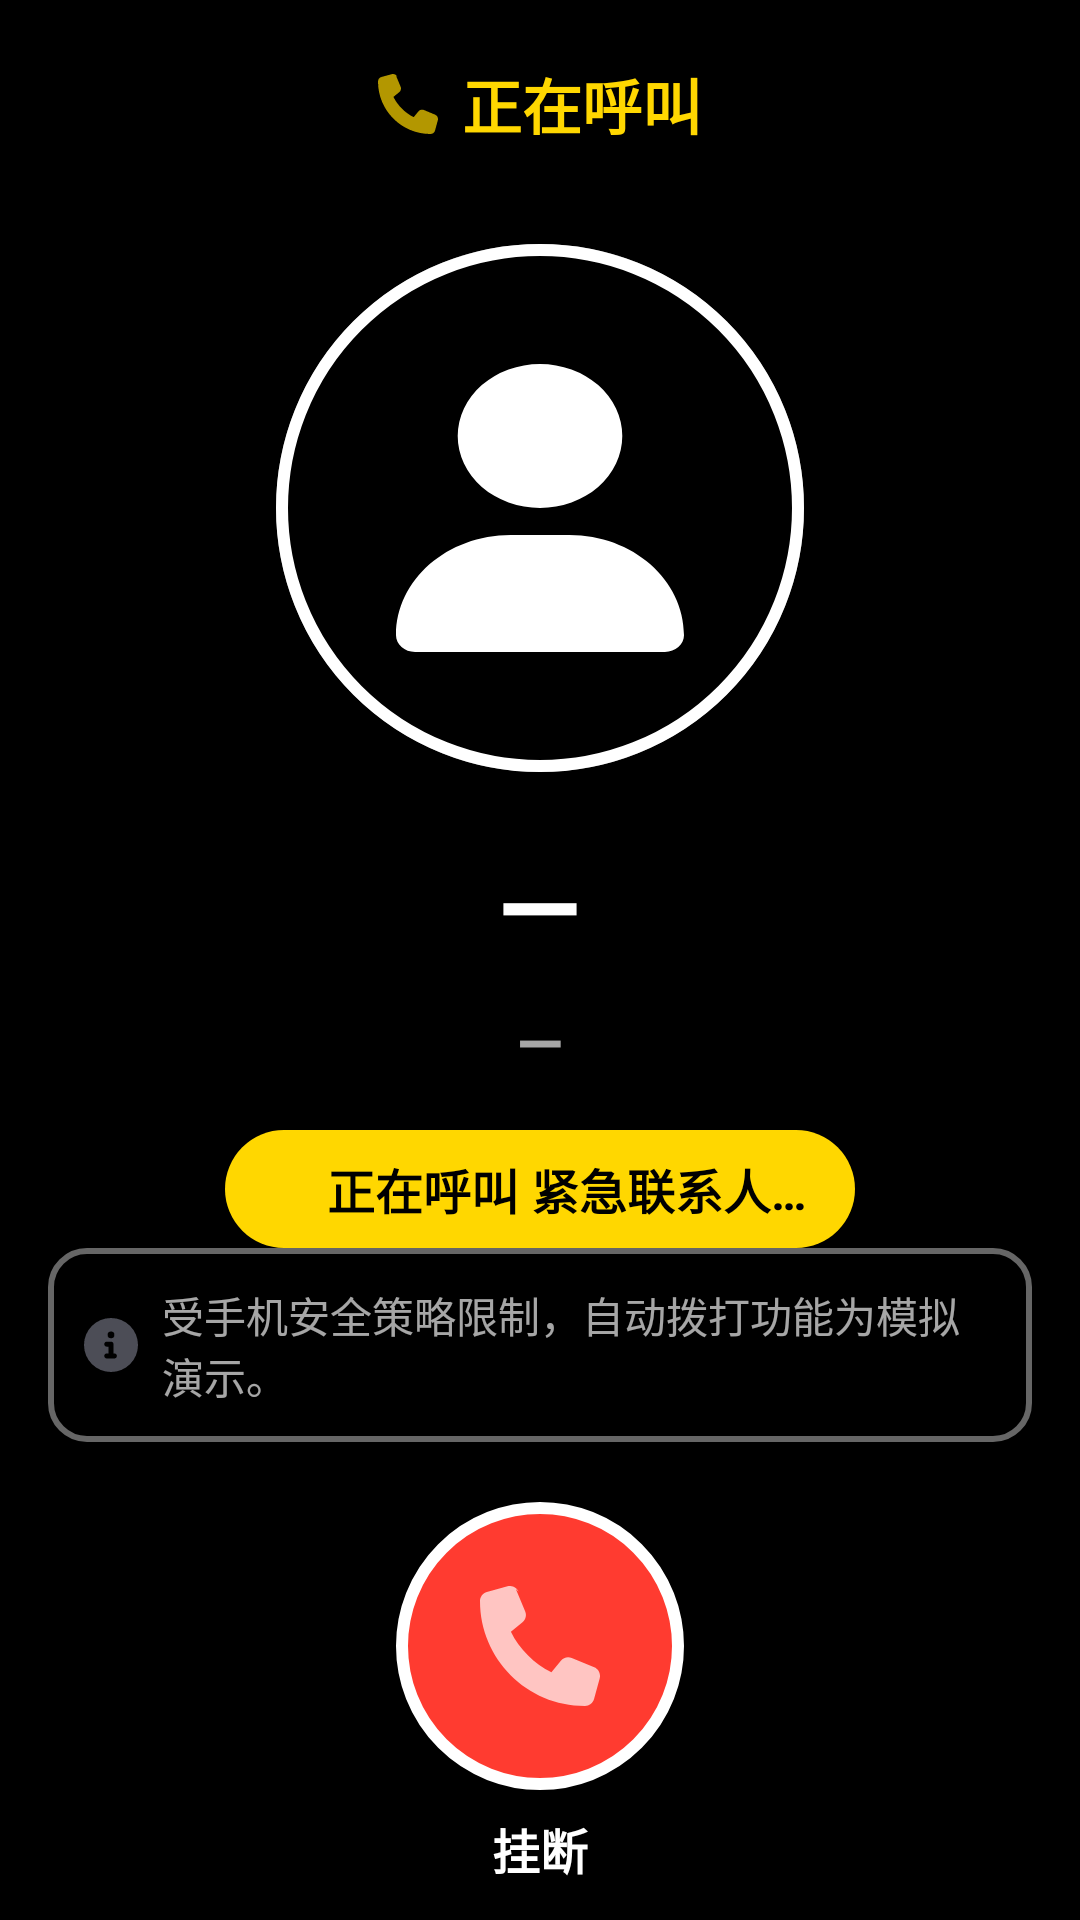

Point at icon controls on the screen. Image size 1080w x 1920h, points as (x,y).
circle info: (111,1345)
phone: (408,104), (540,1646)
user: (540,508)
